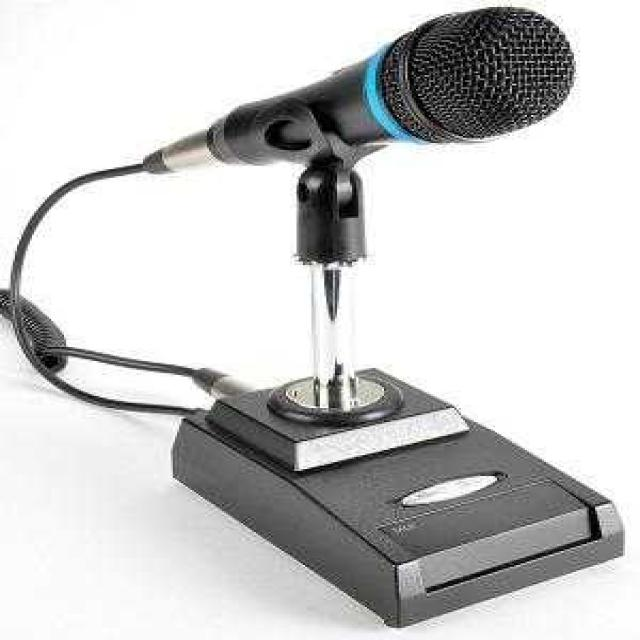microphone: (136, 0, 587, 180)
